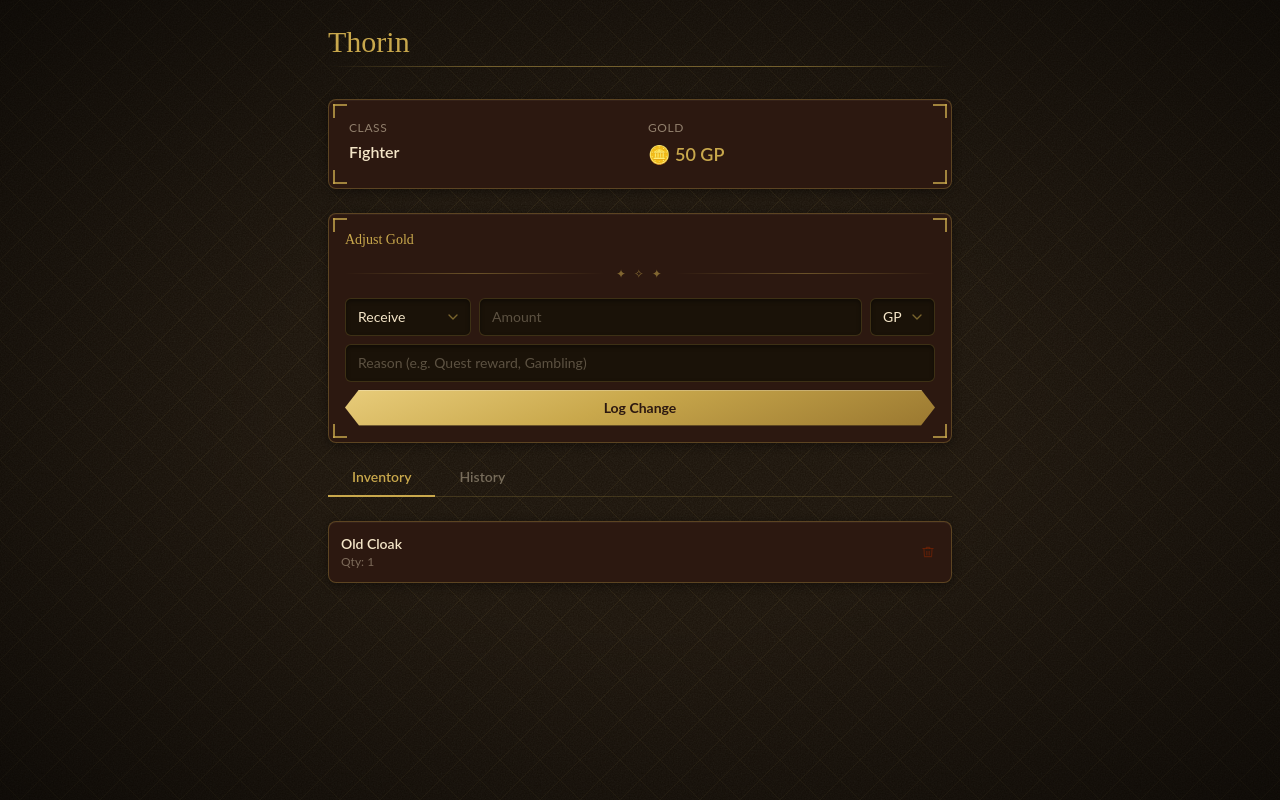
it: CharacterPage › switching to History tab shows empty state
The width and height of the screenshot is (1280, 800).
Click the button "History". click: coordinates (482, 481)
box: left=436, top=467, right=529, bottom=496
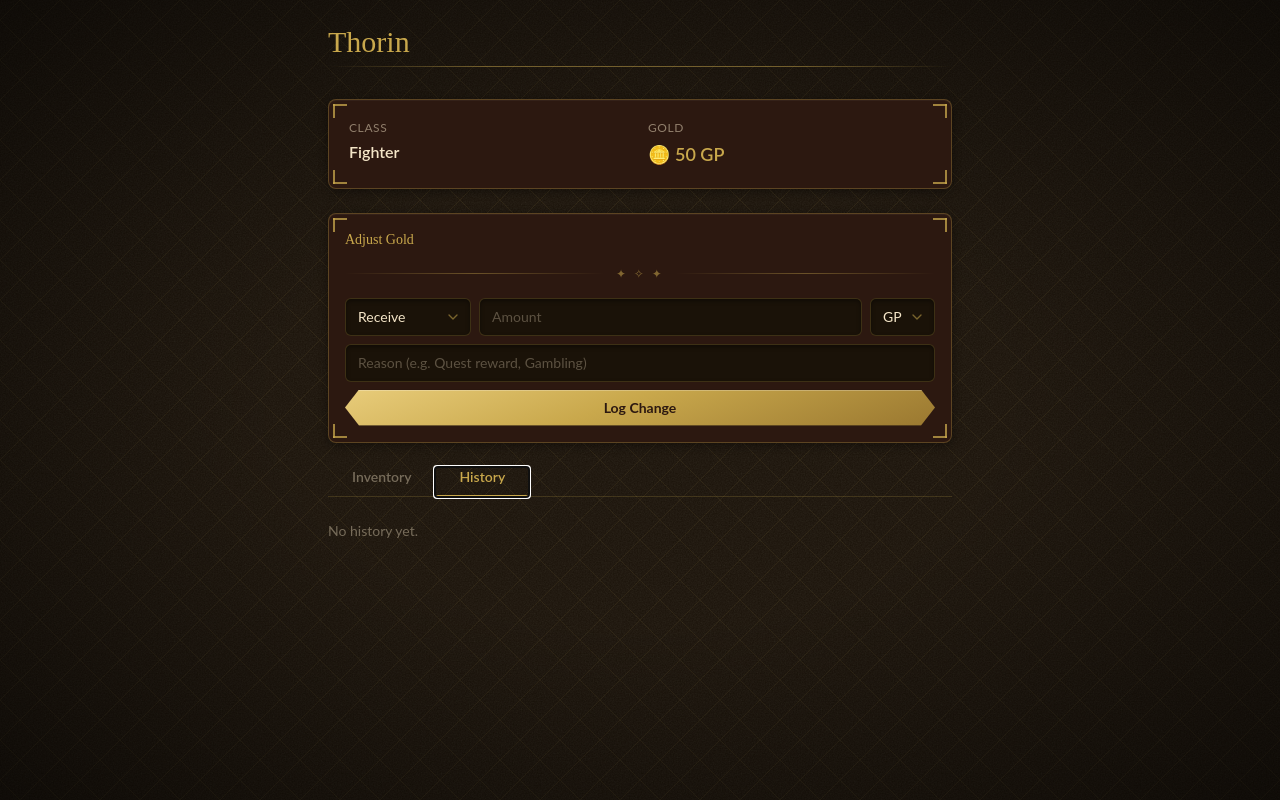
expect the text "No history yet." is shown: met, box left=328, top=522, right=418, bottom=539
